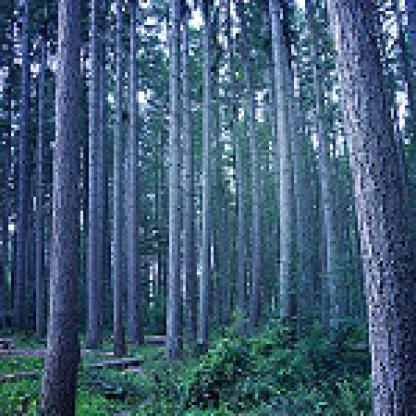trunk: (327, 0, 413, 413), (36, 0, 86, 413), (266, 0, 302, 336), (194, 0, 220, 350), (86, 0, 109, 350), (164, 0, 186, 361), (14, 3, 36, 330), (122, 0, 141, 341), (111, 0, 128, 358), (247, 67, 266, 327)
